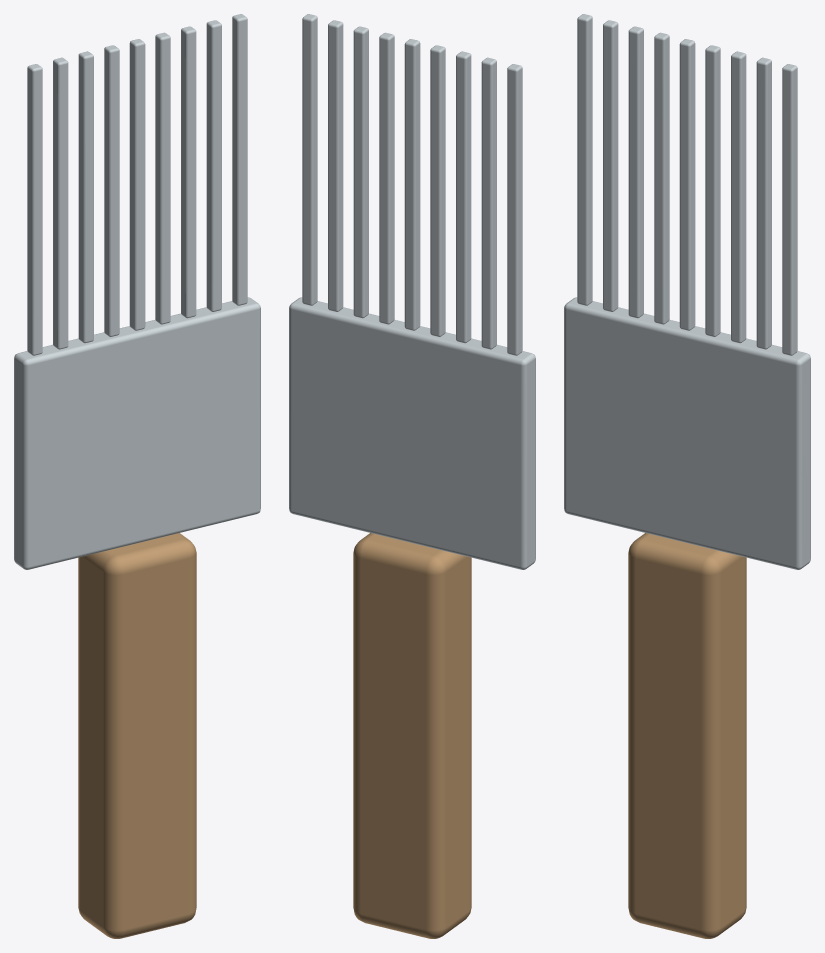
File: beekeeping-and-honey-farm-uncapping-fork-eda343e4__30728.glb
3 renders of one model, left to right at view 1: azimuth 30°, elevation 25°; view 2: azimuth 150°, elevation 25°; view 3: azimuth 330°, elevation 25°, orthographic.
Visible parts, largest first — view 1: uncapping-fork; view 2: uncapping-fork; view 3: uncapping-fork.
Boxes of the visible parts, <box> form: uncapping-fork: <box>14,14,260,938</box>; uncapping-fork: <box>289,14,535,938</box>; uncapping-fork: <box>564,14,810,938</box>.
Size of the model in its own units: 0.065 by 0.23 by 0.018.
